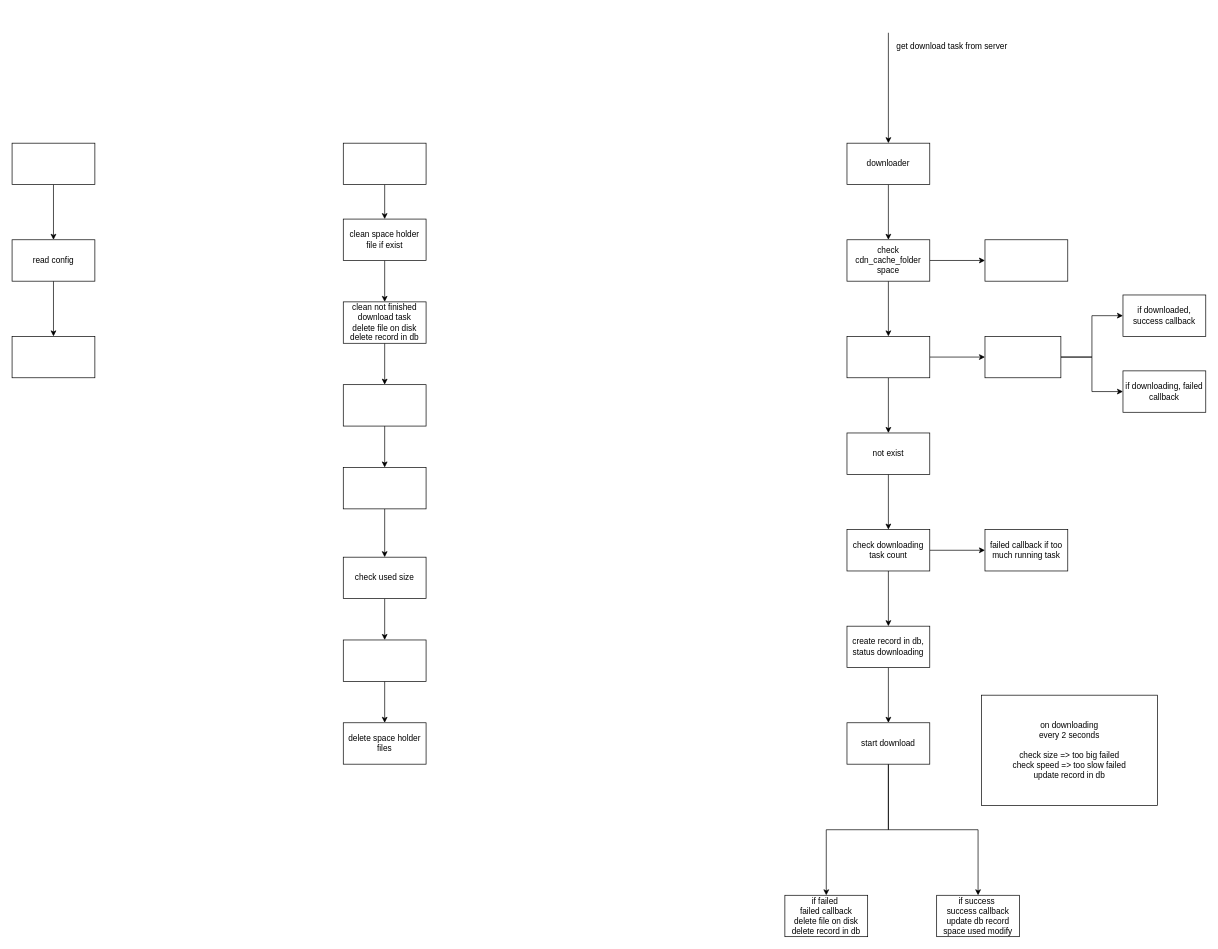
Some shapes in this 1218 by 949 pixel diagram are drawn without their labels. Here are the shapes that lost their labels. From the top down, the centre of each, then its label:
the point at 53,163: init cdn_cache_folder
the point at 384,163: init file_mgr
the point at 1026,260: failed callback if have not enough space
the point at 53,357: create folder and db file if not exist
the point at 888,357: check file exist
the point at 1022,357: exist
the point at 384,405: scan db record clean files which not exist on disk
the point at 384,488: scan folder clean file which not in db
the point at 384,660: if used size<10G, check space by gen space holder files
